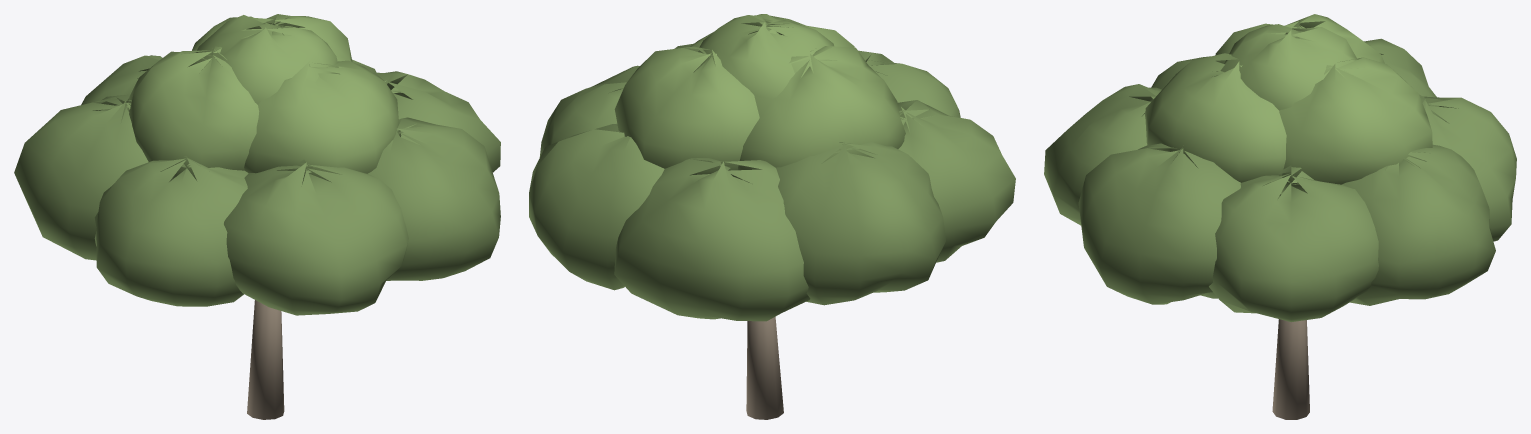
The model's file is camphor.glb.
3 views of the same model, side by side, from view 1: azimuth 30°, elevation 25°; view 2: azimuth 150°, elevation 25°; view 3: azimuth 270°, elevation 25° (orthographic). The views are drawn at different scales.
Parts seen in each view (by area): view 1: camphor_canopy_camphor_shade, camphor_canopy_camphor, camphor_canopy_bark; view 2: camphor_canopy_camphor_shade, camphor_canopy_camphor, camphor_canopy_bark; view 3: camphor_canopy_camphor_shade, camphor_canopy_camphor, camphor_canopy_bark.
Part boxes in pixels (left/top/right/bottom): camphor_canopy_camphor_shade: left=14, top=55, right=500, bottom=315; camphor_canopy_camphor: left=128, top=14, right=401, bottom=184; camphor_canopy_bark: left=247, top=300, right=284, bottom=419; camphor_canopy_camphor_shade: left=529, top=43, right=1015, bottom=321; camphor_canopy_camphor: left=614, top=14, right=905, bottom=181; camphor_canopy_bark: left=746, top=316, right=783, bottom=419; camphor_canopy_camphor_shade: left=1044, top=38, right=1516, bottom=322; camphor_canopy_camphor: left=1145, top=14, right=1432, bottom=194; camphor_canopy_bark: left=1272, top=319, right=1309, bottom=419.
Bounding box in the file's own units: 21.46 × 19.09 × 21.36.
